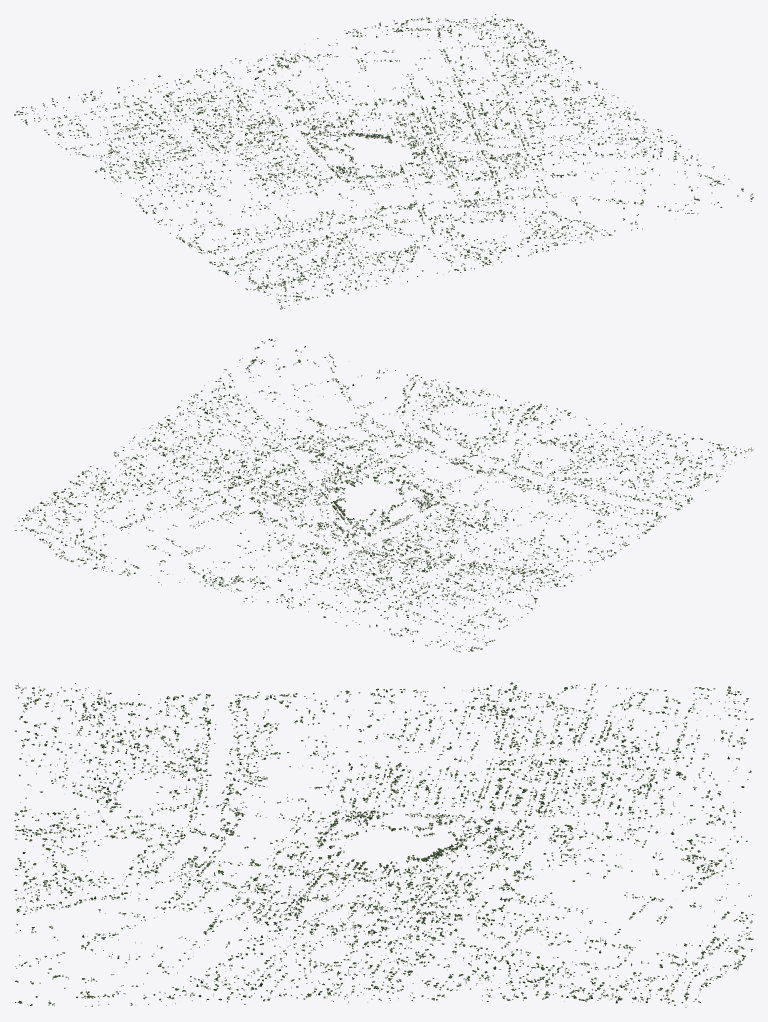
The model's file is gmhba_backdrop_part2.glb.
3 views of the same model, one above another, from view 1: azimuth 30°, elevation 25°; view 2: azimuth 150°, elevation 25°; view 3: azimuth 270°, elevation 25° (orthographic). The views are drawn at different scales.
Parts seen in each view (by area): view 1: bg_trees_joined_s15, bg_trees_joined_s12, bg_trees_joined_s14, bg_trees_joined_s09, bg_trees_joined_s11, bg_trees_joined_s08, bg_trees_joined_s10, bg_trees_joined_s13, bg_trees_joined_s04, bg_trees_joined_s03, bg_trees_joined_s06, bg_trees_joined_s07 (+3 smaller); view 2: bg_trees_joined_s12, bg_trees_joined_s15, bg_trees_joined_s09, bg_trees_joined_s14, bg_trees_joined_s08, bg_trees_joined_s11, bg_trees_joined_s10, bg_trees_joined_s13, bg_trees_joined_s04, bg_trees_joined_s03, bg_trees_joined_s06, bg_trees_joined_s07 (+1 smaller); view 3: bg_trees_joined_s12, bg_trees_joined_s15, bg_trees_joined_s09, bg_trees_joined_s14, bg_trees_joined_s11, bg_trees_joined_s08, bg_trees_joined_s10, bg_trees_joined_s13, bg_trees_joined_s04, bg_trees_joined_s03, bg_trees_joined_s06, bg_trees_joined_s05 (+4 smaller).
Boxes of the visible parts, bbox=[...] form: bg_trees_joined_s15: bbox=[14, 111, 269, 211]; bg_trees_joined_s12: bbox=[417, 14, 614, 126]; bg_trees_joined_s14: bbox=[18, 58, 313, 137]; bg_trees_joined_s09: bbox=[282, 206, 505, 308]; bg_trees_joined_s11: bbox=[494, 97, 753, 197]; bg_trees_joined_s08: bbox=[143, 183, 343, 309]; bg_trees_joined_s10: bbox=[454, 169, 752, 256]; bg_trees_joined_s13: bbox=[257, 17, 467, 103]; bg_trees_joined_s04: bbox=[388, 104, 489, 146]; bg_trees_joined_s03: bbox=[410, 128, 510, 169]; bg_trees_joined_s06: bbox=[259, 106, 354, 149]; bg_trees_joined_s07: bbox=[253, 139, 353, 181]; bg_trees_joined_s12: bbox=[14, 440, 256, 536]; bg_trees_joined_s15: bbox=[405, 524, 613, 651]; bg_trees_joined_s09: bbox=[441, 402, 750, 482]; bg_trees_joined_s14: bbox=[243, 544, 469, 652]; bg_trees_joined_s08: bbox=[493, 447, 753, 554]; bg_trees_joined_s11: bbox=[133, 338, 335, 469]; bg_trees_joined_s10: bbox=[270, 339, 506, 450]; bg_trees_joined_s13: bbox=[39, 509, 303, 592]; bg_trees_joined_s04: bbox=[241, 471, 344, 506]; bg_trees_joined_s03: bbox=[264, 444, 362, 490]; bg_trees_joined_s06: bbox=[310, 509, 402, 551]; bg_trees_joined_s07: bbox=[382, 503, 482, 548]; bg_trees_joined_s12: bbox=[383, 897, 701, 1007]; bg_trees_joined_s15: bbox=[383, 682, 739, 793]; bg_trees_joined_s09: bbox=[14, 686, 253, 852]; bg_trees_joined_s14: bbox=[507, 693, 753, 845]; bg_trees_joined_s11: bbox=[20, 899, 383, 1006]; bg_trees_joined_s08: bbox=[15, 683, 383, 790]; bg_trees_joined_s10: bbox=[14, 850, 254, 1003]; bg_trees_joined_s13: bbox=[515, 842, 753, 987]; bg_trees_joined_s04: bbox=[384, 856, 492, 918]; bg_trees_joined_s03: bbox=[264, 859, 383, 917]; bg_trees_joined_s06: bbox=[415, 795, 555, 846]; bg_trees_joined_s05: bbox=[412, 843, 553, 891].
Bounding box in the file's own units: 3005 × 88.62 × 3006.
Materials: 1 (1 with a texture image).
